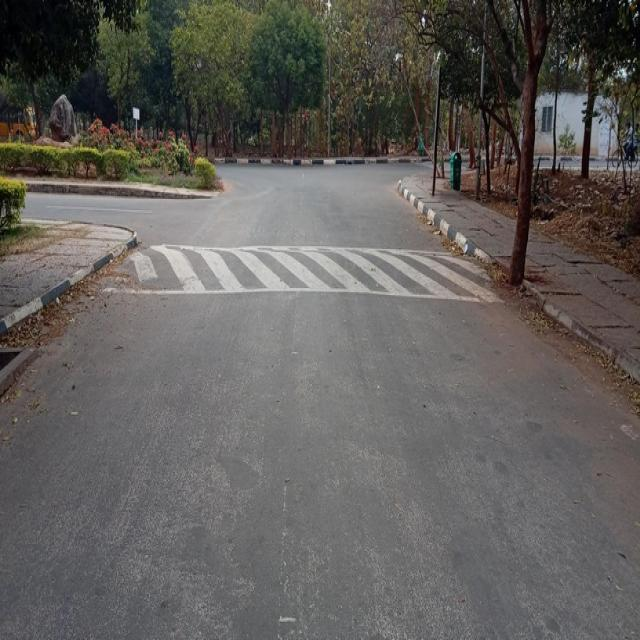speedbreaker: (80, 237, 496, 302)
